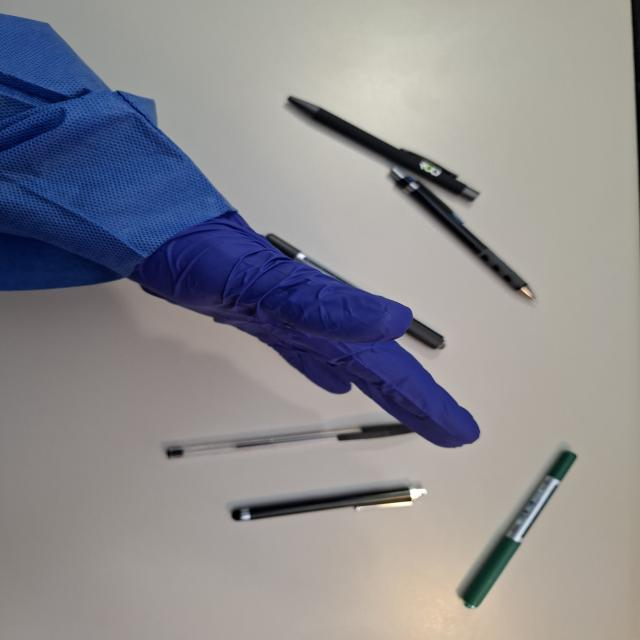glove_on: (116, 206, 485, 452)
